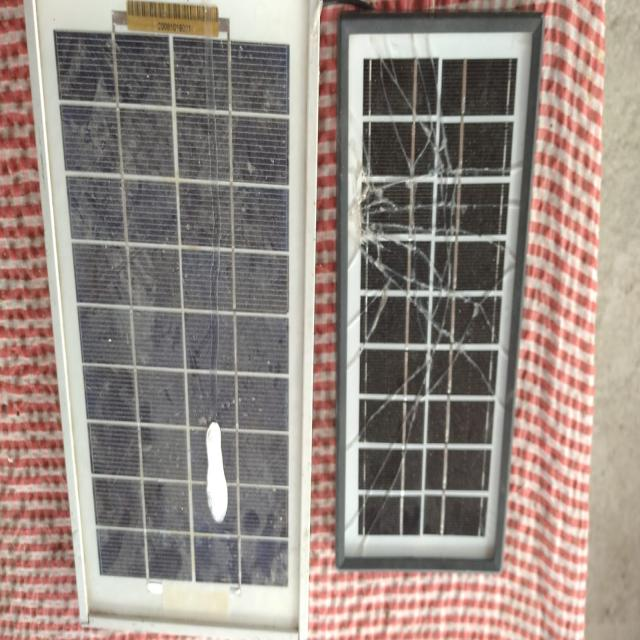Bird-drop: (204, 415, 229, 526)
